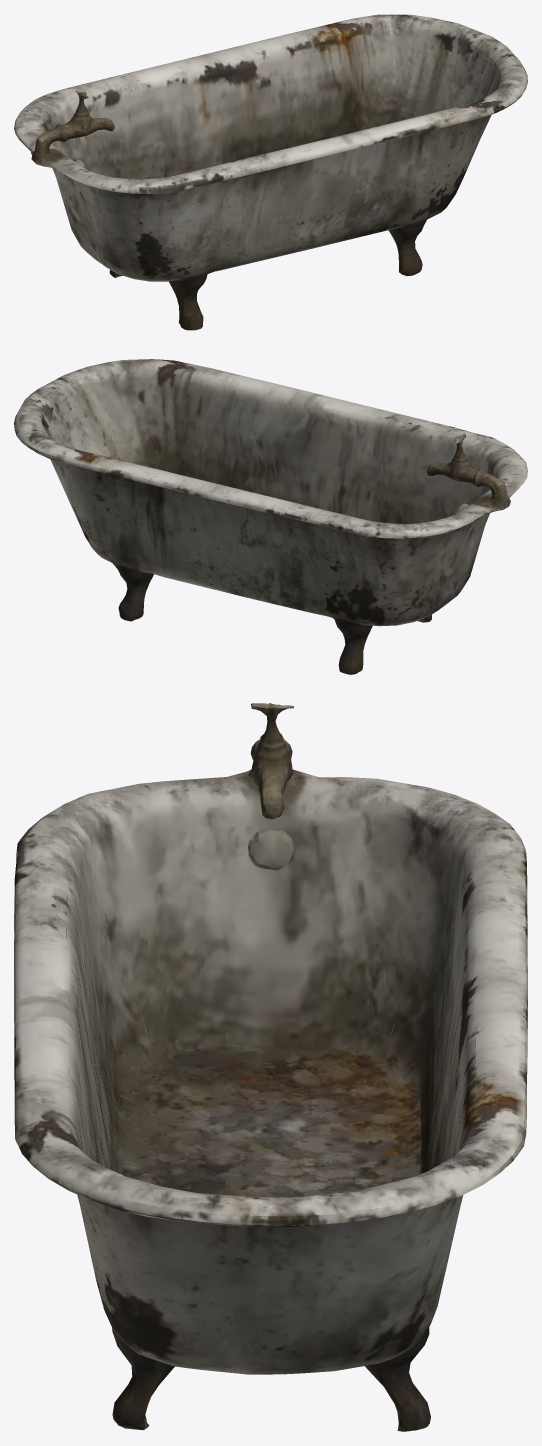
The model's file is bath.glb.
3 views of the same model, one above another, from view 1: azimuth 30°, elevation 25°; view 2: azimuth 150°, elevation 25°; view 3: azimuth 270°, elevation 25° (orthographic). The views are drawn at different scales.
Parts seen in each view (by area): view 1: Mesh_0; view 2: Mesh_0; view 3: Mesh_0.
Part boxes in pixels (x1,y1,x2,y2): Mesh_0: (14, 14, 527, 330); Mesh_0: (14, 359, 527, 674); Mesh_0: (14, 703, 527, 1431).
Size of the model in its own units: 1.89 by 0.8627 by 0.9104.
Materials: 1 (1 with a texture image).
